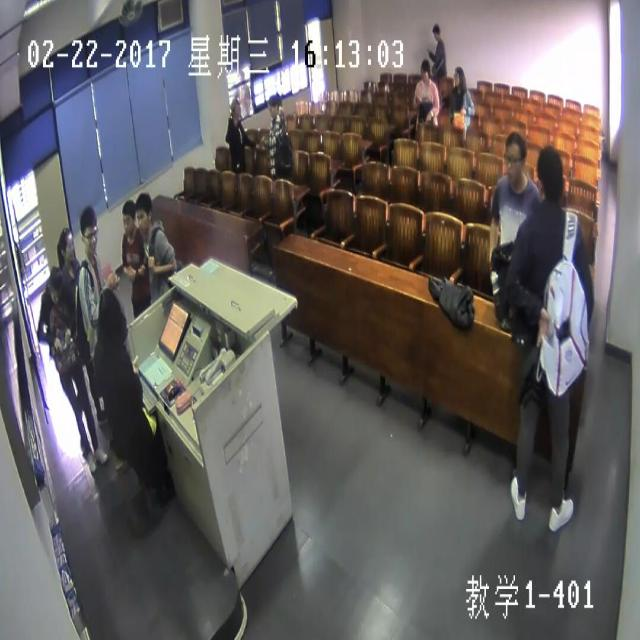person: (538, 146, 560, 201), (97, 288, 119, 338), (504, 131, 524, 183), (80, 208, 97, 256), (135, 193, 150, 235), (58, 228, 73, 262), (47, 269, 62, 302), (122, 202, 134, 236), (419, 58, 429, 81), (268, 95, 278, 118), (453, 65, 462, 89), (230, 99, 239, 119), (432, 22, 439, 38)
